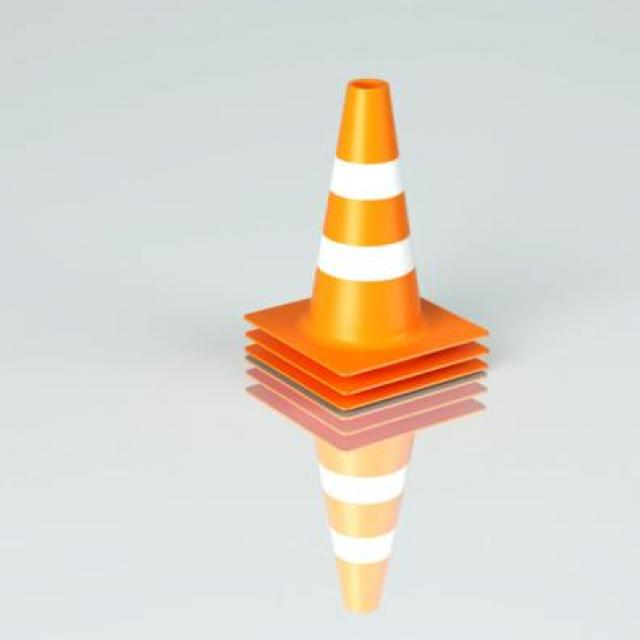Cone: (243, 77, 488, 426)
